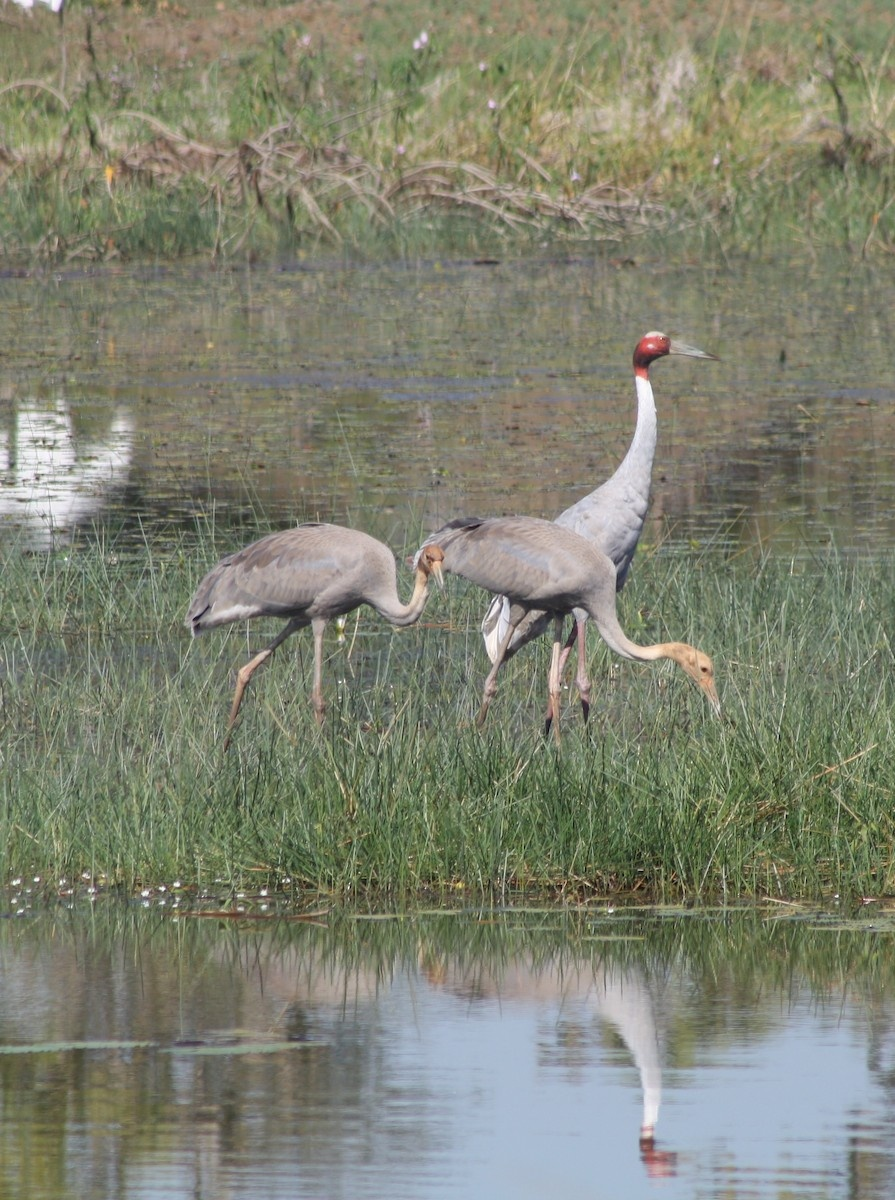crane: (416, 493, 724, 742), (183, 489, 450, 753), (550, 317, 731, 553)
